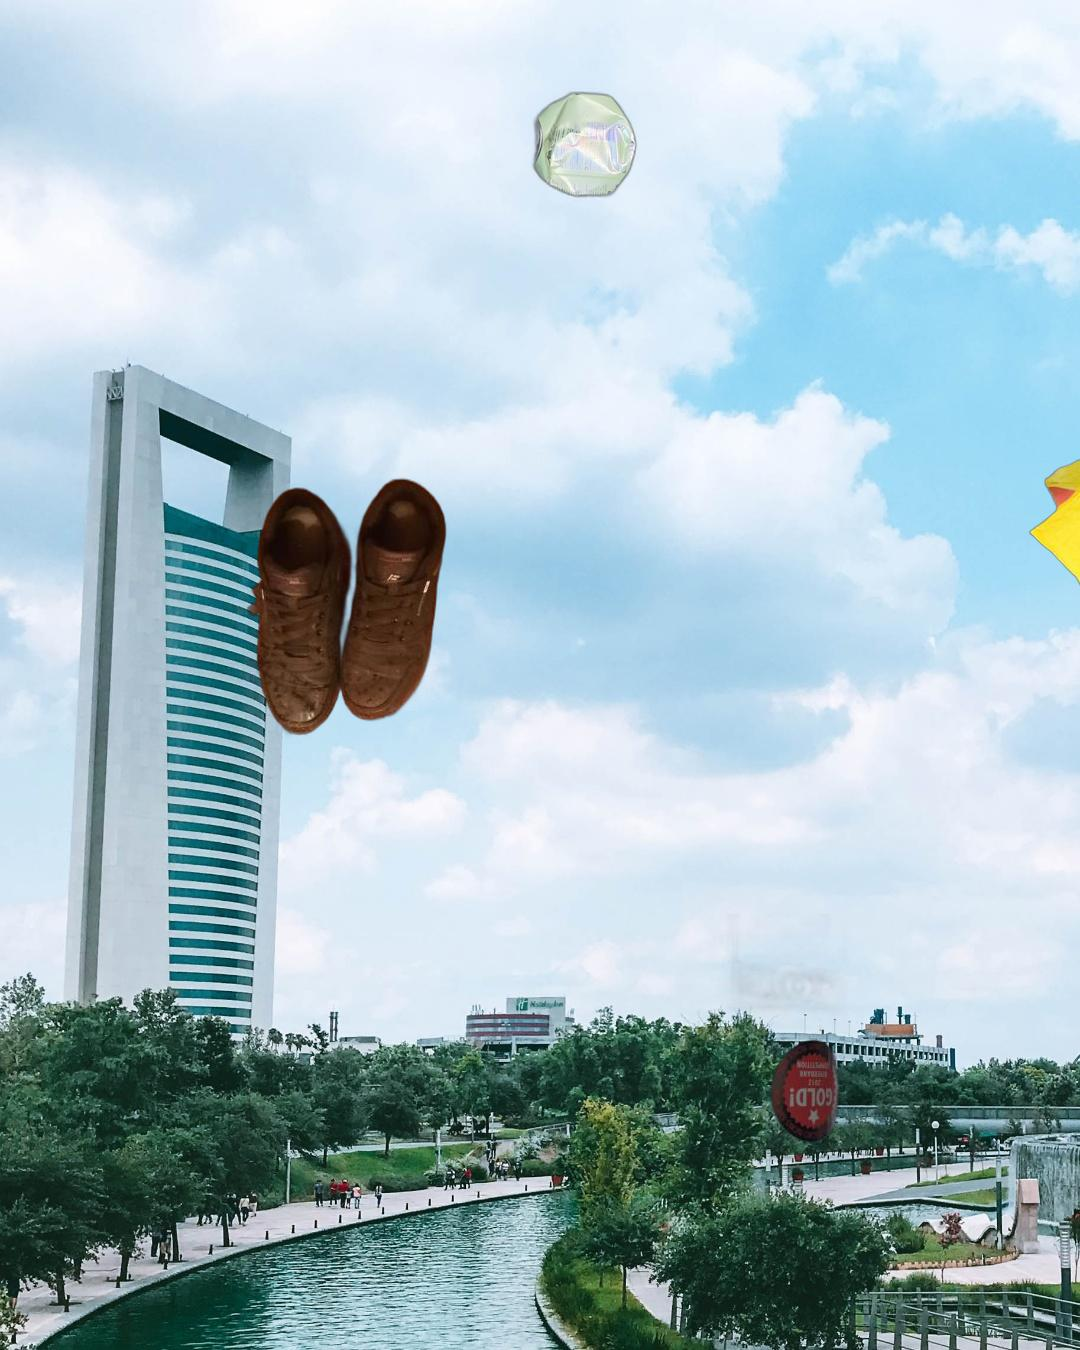glass: (617, 914, 853, 1298)
metal-cans: (530, 86, 641, 202)
plastic-bag: (1027, 428, 1080, 627)
shoes: (245, 474, 450, 739)
